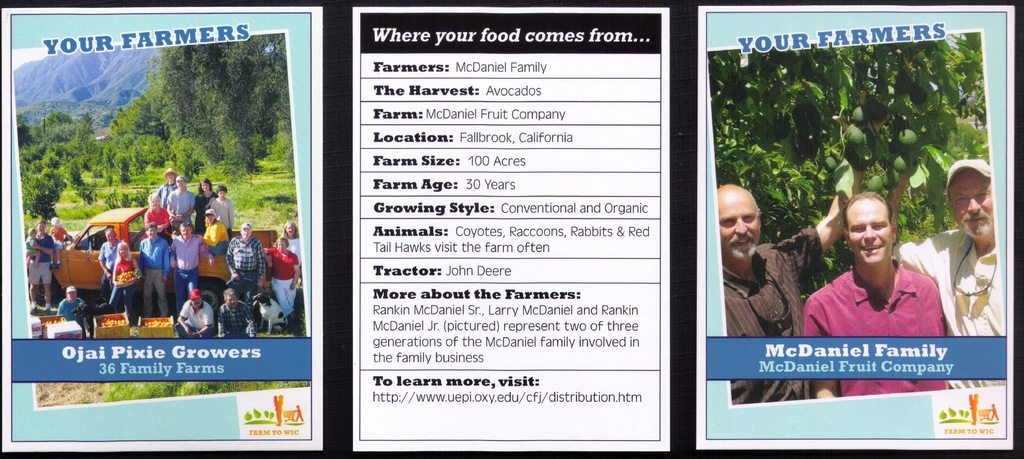Human-face: (945, 175, 991, 240), (718, 190, 759, 258), (847, 200, 892, 257), (180, 224, 191, 239), (225, 295, 236, 307), (190, 296, 201, 307), (285, 223, 294, 234), (106, 231, 115, 241), (277, 240, 286, 249), (118, 244, 126, 254), (37, 221, 45, 230), (150, 197, 157, 207), (202, 181, 209, 191), (147, 227, 155, 235), (168, 172, 175, 180)
